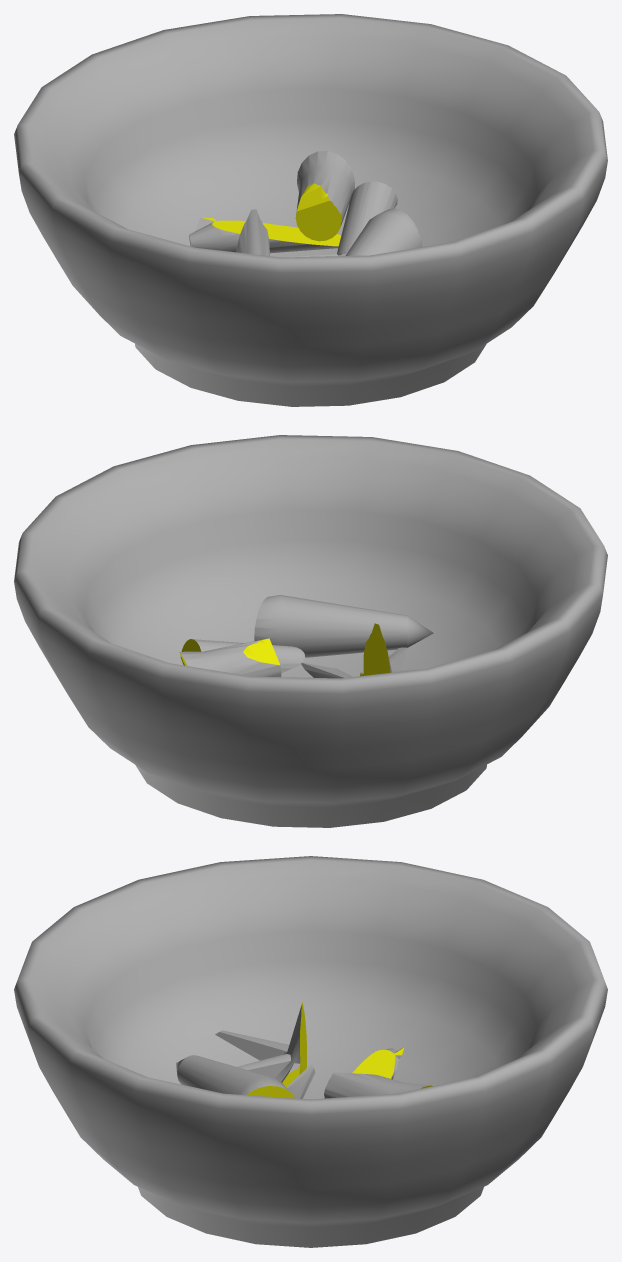
File: CutPataInBowl.fbx
The picture shows the model from 3 angles, top to bottom: view 1: azimuth 30°, elevation 25°; view 2: azimuth 150°, elevation 25°; view 3: azimuth 270°, elevation 25°; orthographic projection.
Visible parts, largest first — view 1: cuenco, shard5, shard4, shard1, shard3, shard2; view 2: cuenco, shard1, shard5, shard3, shard2; view 3: cuenco, shard1, shard2, shard5, shard4.
Part boxes in pixels (x1,y1,x2,y2): cuenco: [14, 14, 607, 406]; shard5: [295, 150, 354, 241]; shard4: [189, 217, 341, 253]; shard1: [345, 208, 422, 255]; shard3: [284, 181, 397, 257]; shard2: [236, 209, 269, 255]; cuenco: [14, 435, 607, 827]; shard1: [254, 595, 433, 657]; shard5: [179, 638, 281, 676]; shard3: [180, 639, 352, 678]; shard2: [360, 623, 431, 676]; cuenco: [14, 856, 607, 1247]; shard1: [176, 1055, 294, 1098]; shard2: [215, 1002, 306, 1086]; shard5: [324, 1072, 432, 1098]; shard4: [352, 1047, 404, 1079].
Bounding box in the file's own units: 44.38 × 16.08 × 44.38.
